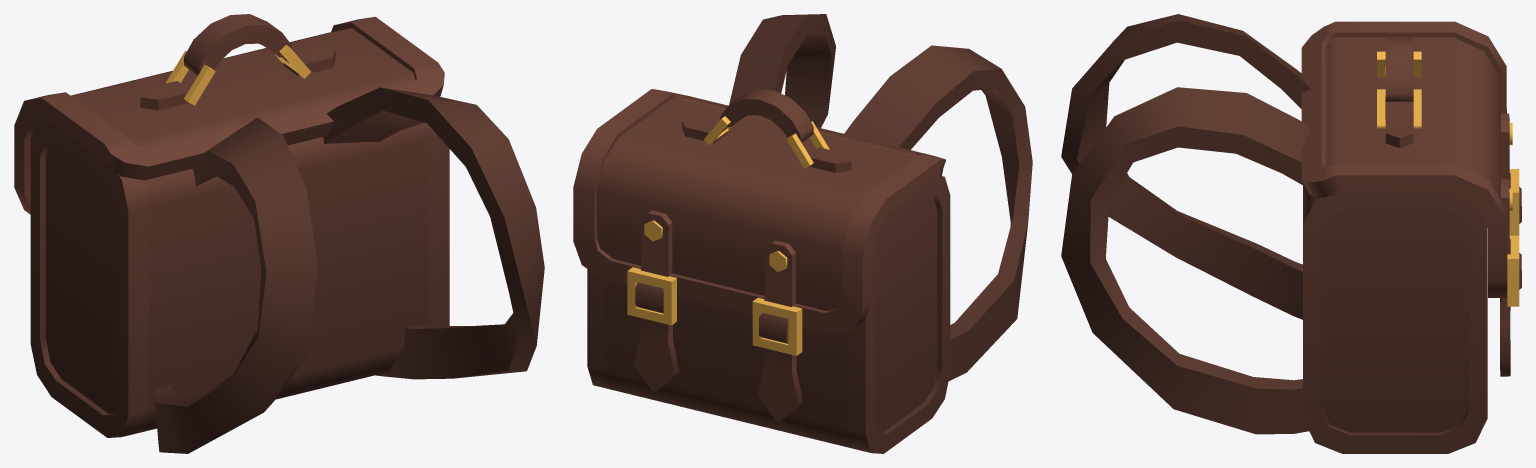
The model's file is Bag_7.fbx.
The picture shows the model from 3 angles, left to right: view 1: azimuth 30°, elevation 25°; view 2: azimuth 150°, elevation 25°; view 3: azimuth 270°, elevation 25°; orthographic projection. The views are drawn at different scales.
Visible parts, largest first — view 1: Bag_7; view 2: Bag_7; view 3: Bag_7.
Boxes of the visible parts, x1,y1,x2,y2 form: Bag_7: (14, 14, 544, 453); Bag_7: (573, 14, 1032, 453); Bag_7: (1061, 14, 1521, 453).
Size of the model in its own units: 45.72 by 45.93 by 56.98.
